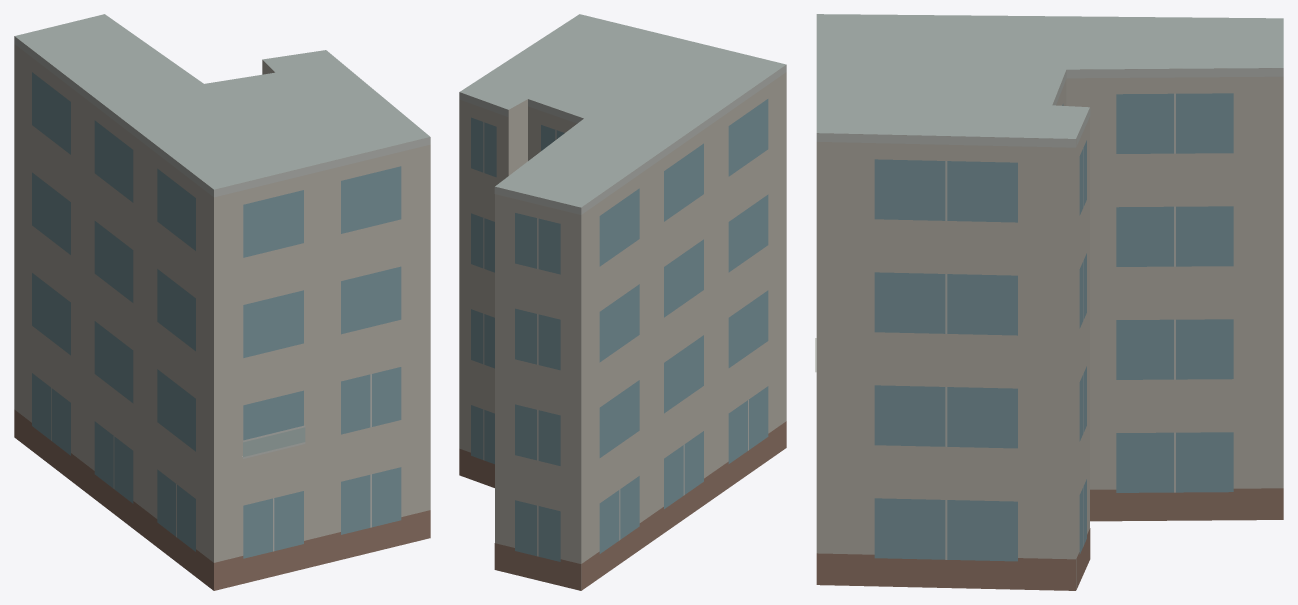
File: survey-upis-32945811.glb
3 renders of one model, left to right at view 1: azimuth 30°, elevation 25°; view 2: azimuth 150°, elevation 25°; view 3: azimuth 270°, elevation 25°, orthographic. The views are drawn at different scales.
Visible parts, largest first — view 1: survey-upis-32945811.tmp; view 2: survey-upis-32945811.tmp; view 3: survey-upis-32945811.tmp.
Boxes of the visible parts, x1,y1,x2,y2 form: survey-upis-32945811.tmp: (14, 14, 430, 590); survey-upis-32945811.tmp: (459, 14, 786, 590); survey-upis-32945811.tmp: (815, 14, 1283, 590).
Bounding box in the file's own units: 7.48 × 12.6 × 11.85.
